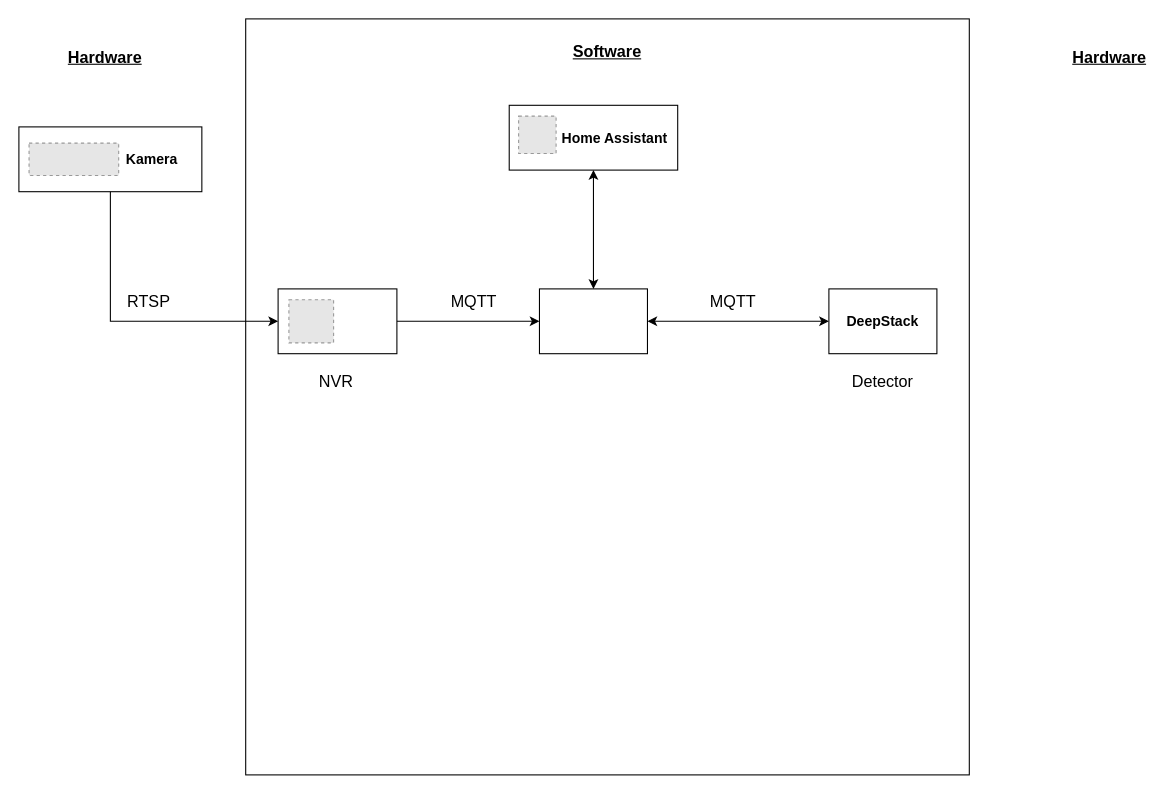
Some shapes in this 1165 by 794 pixel diagram are drawn without their labels. Grey dashed boxes stand in for pictures. The shapes that lost their labels are listed below. From the top down, each one's box as (x1, y1, x2, y2) in pixels, then its label:
(277, 288, 397, 354): Frigate
(538, 288, 647, 354): Double Take
